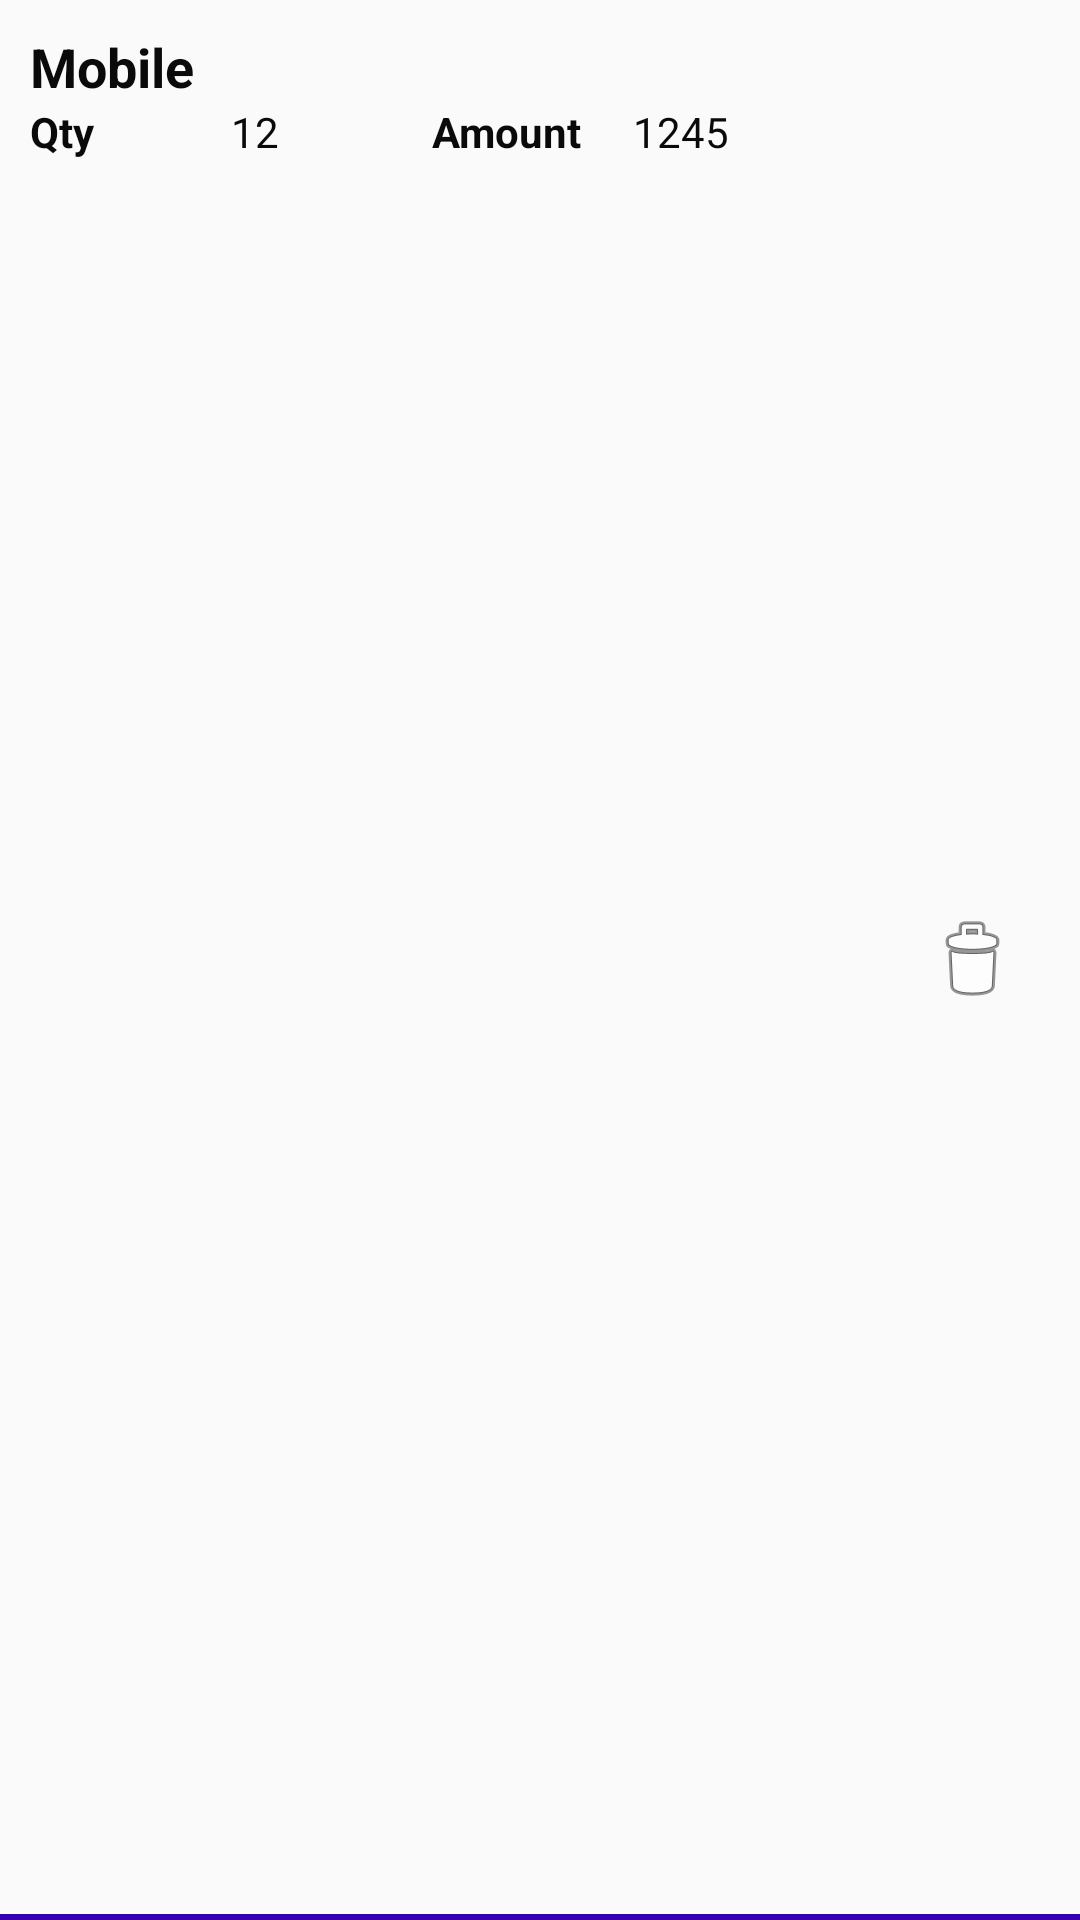

Screen size 1080px x 1920px. Icon name, then its box in pixels as (x1, y1, x2, y2):
delete: (945, 921, 1000, 996)
